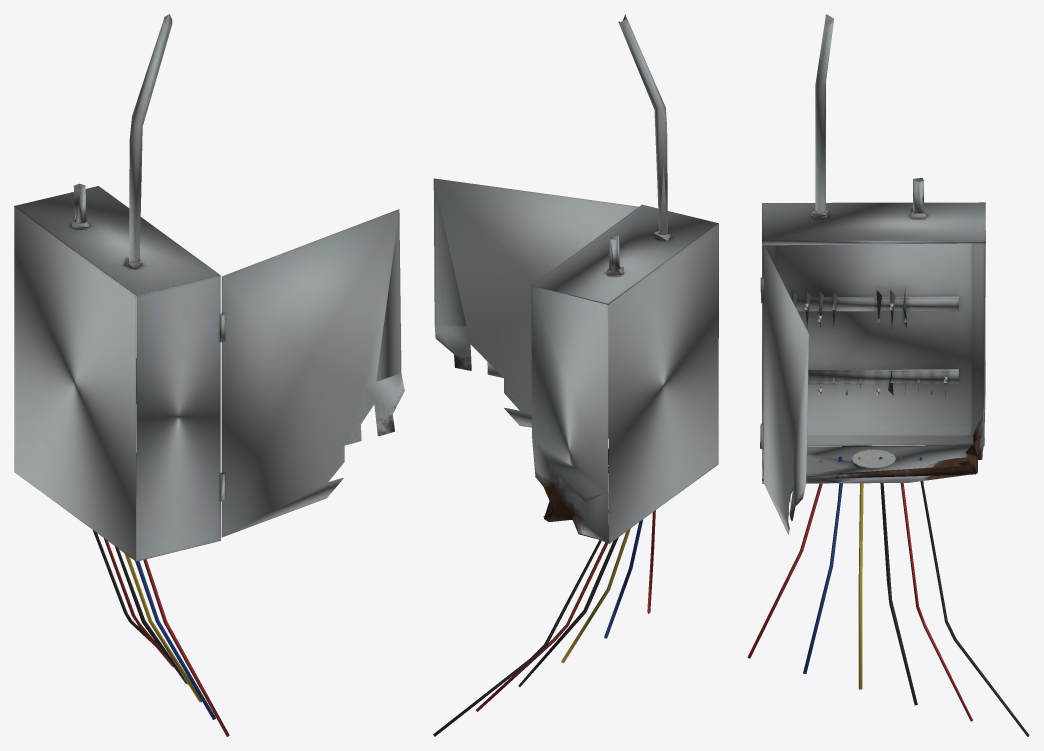
File: industrial_junction_box_broken_lod2.glb
The picture shows the model from 3 angles, left to right: view 1: azimuth 30°, elevation 25°; view 2: azimuth 150°, elevation 25°; view 3: azimuth 270°, elevation 25°; orthographic projection. The views are drawn at different scales.
Parts seen in each view (by area): view 1: industrial_junction_box_broken_paint, industrial_junction_box_broken_cable_red, industrial_junction_box_broken_rubber, industrial_junction_box_broken_cable_blue, industrial_junction_box_broken_cable_yellow; view 2: industrial_junction_box_broken_paint, industrial_junction_box_broken_rubber, industrial_junction_box_broken_cable_red, industrial_junction_box_broken_cable_yellow, industrial_junction_box_broken_cable_blue; view 3: industrial_junction_box_broken_paint, industrial_junction_box_broken_rubber, industrial_junction_box_broken_cable_red, industrial_junction_box_broken_cable_yellow, industrial_junction_box_broken_dark, industrial_junction_box_broken_cable_blue.
Boxes of the visible parts, x1,y1,x2,y2 form: industrial_junction_box_broken_paint: [14, 14, 404, 561]; industrial_junction_box_broken_cable_red: [104, 538, 229, 736]; industrial_junction_box_broken_rubber: [93, 530, 187, 684]; industrial_junction_box_broken_cable_blue: [135, 561, 215, 719]; industrial_junction_box_broken_cable_yellow: [124, 553, 201, 702]; industrial_junction_box_broken_paint: [433, 14, 718, 543]; industrial_junction_box_broken_rubber: [433, 510, 618, 736]; industrial_junction_box_broken_cable_red: [476, 510, 655, 711]; industrial_junction_box_broken_cable_yellow: [561, 528, 630, 662]; industrial_junction_box_broken_cable_blue: [604, 519, 643, 638]; industrial_junction_box_broken_paint: [760, 14, 985, 534]; industrial_junction_box_broken_rubber: [879, 457, 1029, 736]; industrial_junction_box_broken_cable_red: [747, 457, 972, 721]; industrial_junction_box_broken_cable_yellow: [858, 456, 863, 689]; industrial_junction_box_broken_dark: [791, 288, 945, 396]; industrial_junction_box_broken_cable_blue: [803, 456, 842, 673].
Size of the model in its own units: 0.6877 by 1.67 by 0.6313.
7 materials, 1 textured.
